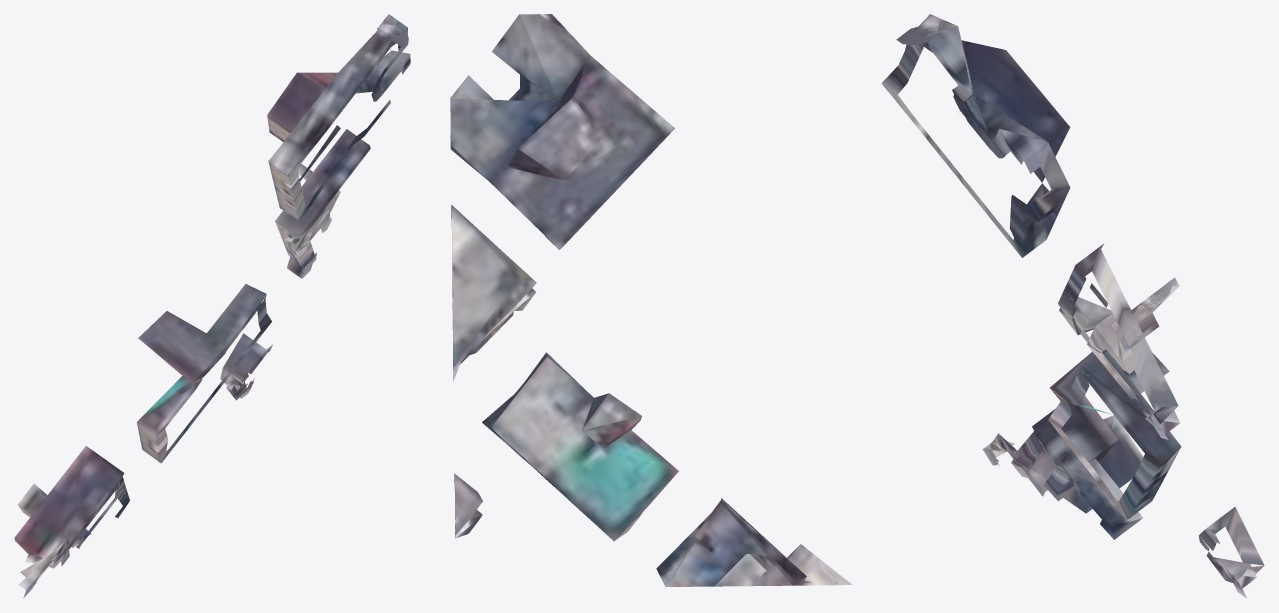
3 renders of one model, left to right at view 1: azimuth 30°, elevation 25°; view 2: azimuth 150°, elevation 25°; view 3: azimuth 270°, elevation 25°, orthographic. The views are drawn at different scales.
Bounding box in the file's own units: 59.83 × 71.93 × 37.66.
Materials: 1 (1 with a texture image).
